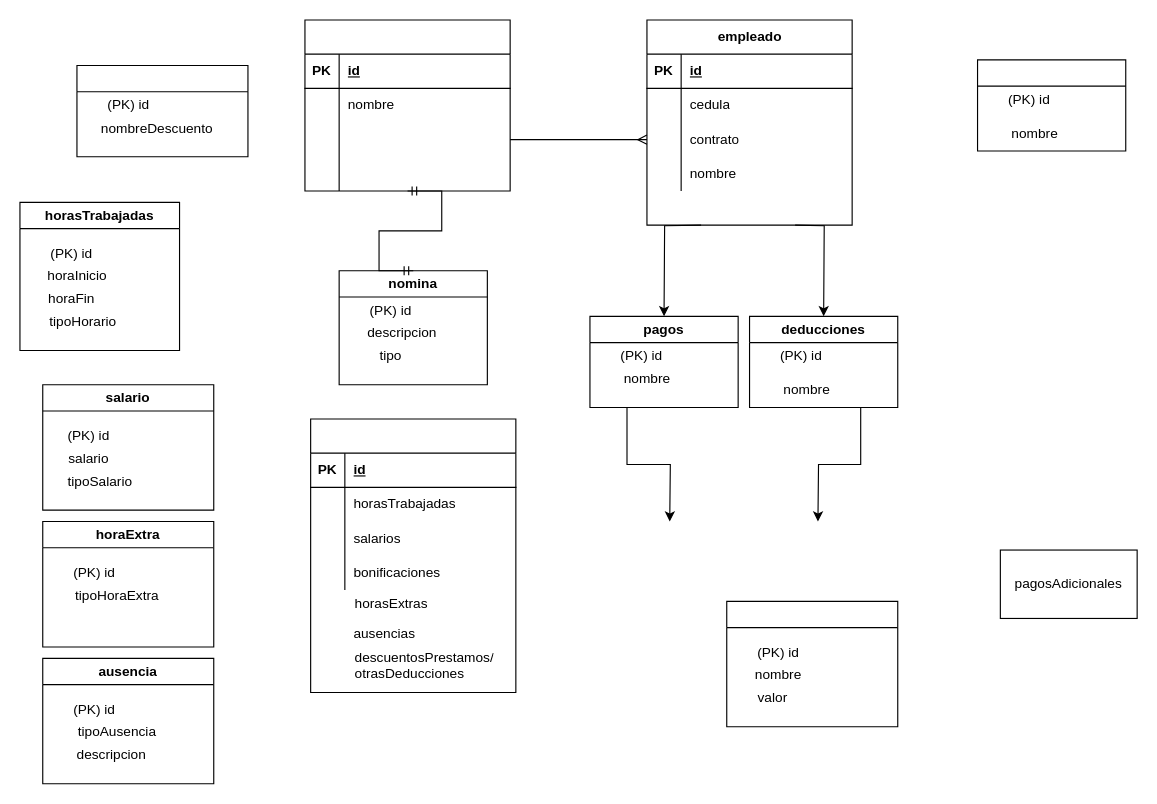
Some shapes in this 1157 by 804 pixel diagram are drawn without their labels. The box of each missing label's shape, as (x1, y1, x2, y2) in pixels:
bonificacion: (726, 600, 898, 727)
descuentosPrestamos: (76, 64, 248, 157)
empresa: (304, 19, 510, 191)
recopilacionInformacion: (310, 418, 516, 693)
tipoIdentificacion: (976, 59, 1126, 151)
